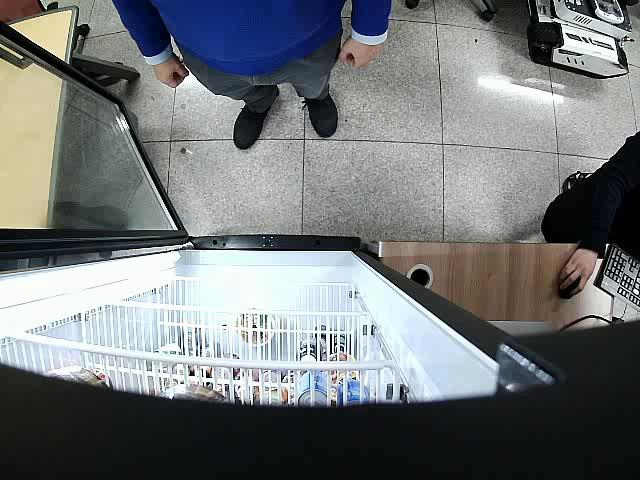00_hand: (557, 249, 596, 294), (338, 38, 382, 71), (153, 59, 190, 88)
